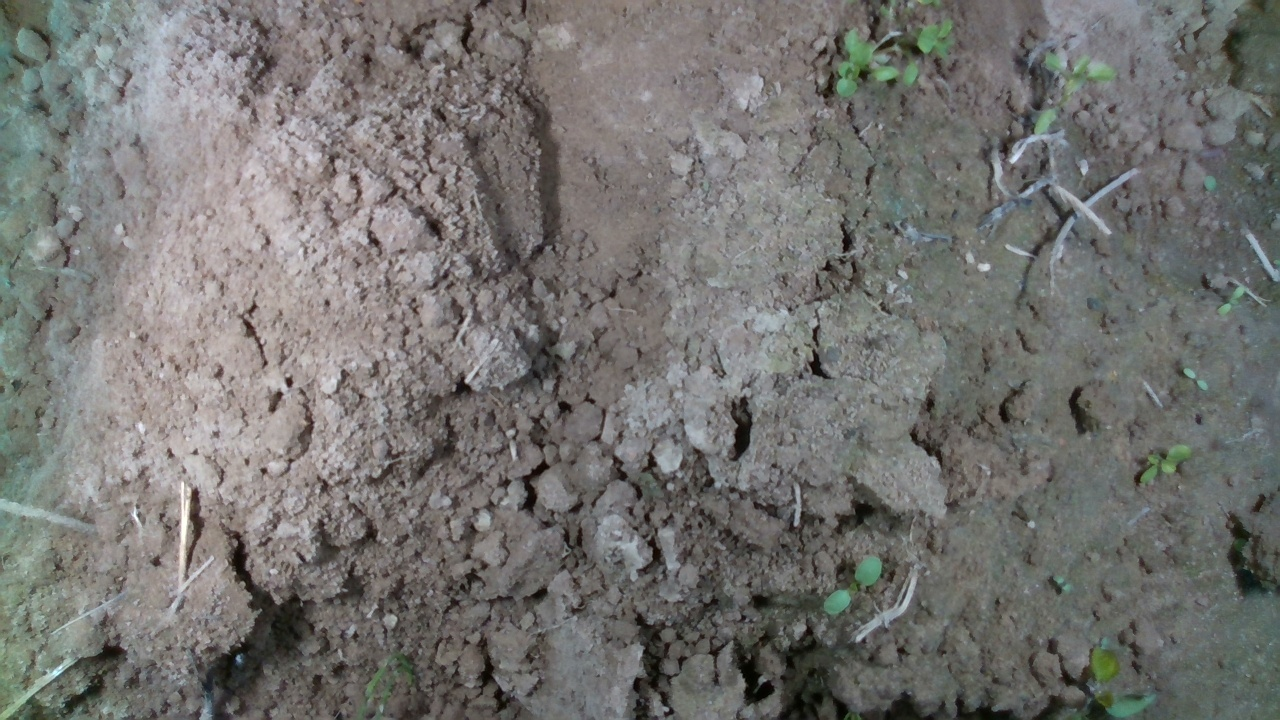weed: (822, 554, 882, 616), (1138, 442, 1193, 485), (1215, 284, 1245, 318), (1181, 367, 1209, 391)
